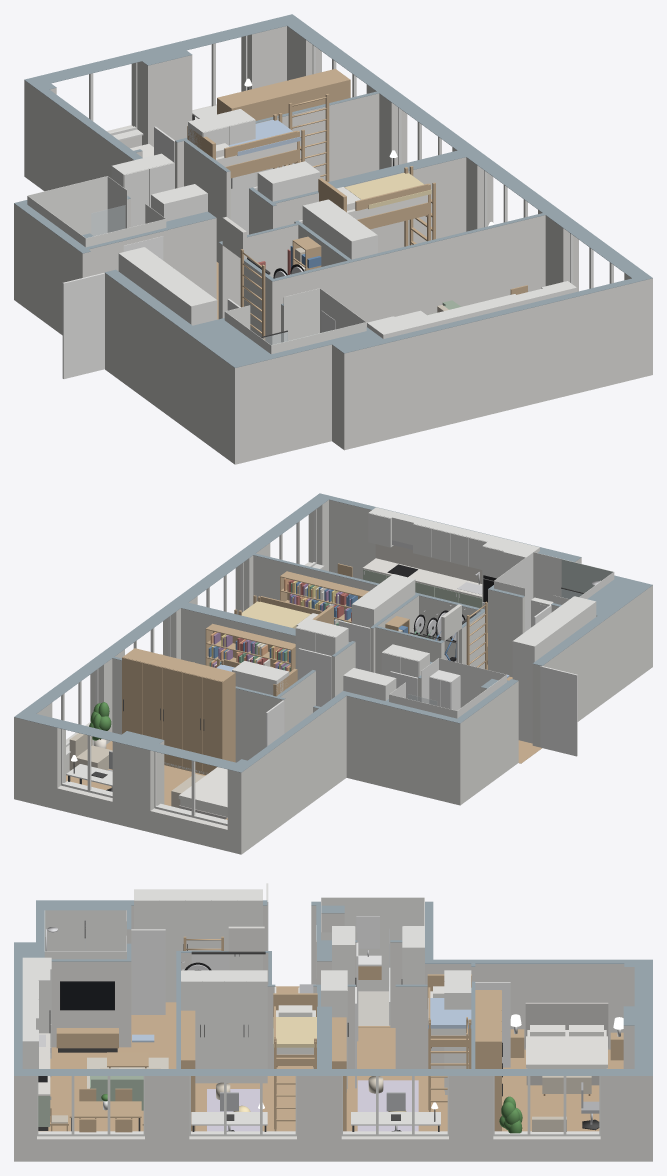
3 renders of one model, top to bottom at view 1: azimuth 30°, elevation 25°; view 2: azimuth 150°, elevation 25°; view 3: azimuth 270°, elevation 25°, orthographic. The views are drawn at different scales.
Parts seen in each view (by area): view 1: wall, white, wallcap, oak, tile_wall, white_gloss, linen, bed_yellow, glass, bed_blue, mirror; view 2: wall, white, oak, wallcap, white_gloss, tile_wall, backsplash, linen, fabric_sand, oak_floor, worktop, tile_accent (+9 smaller); view 3: wall, white, wallcap, oak_floor, oak, tile_wall, white_gloss, linen, rug_lilac, upholstery, fabric_sand, screen (+11 smaller).
Part boxes in pixels (box(x1,y1,x2,y2)): wall: box(14, 26, 652, 464); white: box(89, 35, 613, 338); wallcap: box(14, 14, 652, 367); oak: box(187, 69, 527, 339); tile_wall: box(27, 176, 366, 354); white_gloss: box(62, 126, 302, 378); linen: box(130, 142, 427, 219); bed_yellow: box(344, 173, 431, 208); glass: box(91, 205, 287, 344); bed_blue: box(229, 120, 300, 155); mirror: box(123, 236, 335, 332); wall: box(14, 500, 652, 854); white: box(61, 507, 596, 825); oak: box(122, 563, 487, 819); wallcap: box(14, 493, 652, 772); white_gloss: box(266, 604, 577, 756); tile_wall: box(389, 552, 614, 718); backsplash: box(375, 544, 482, 583); linen: box(178, 613, 318, 816); fabric_sand: box(69, 629, 402, 807); oak_floor: box(66, 633, 541, 805); worktop: box(362, 558, 482, 598); tile_accent: box(561, 559, 613, 598); wall: box(14, 905, 652, 1161); white: box(22, 889, 600, 1136); wallcap: box(14, 900, 652, 1075); oak_floor: box(38, 986, 623, 1131); oak: box(50, 936, 623, 1132); tile_wall: box(44, 897, 424, 991); white_gloss: box(131, 883, 510, 1088); linen: box(276, 986, 607, 1068); rug_lilac: box(207, 1080, 418, 1131); upholstery: box(525, 1002, 608, 1085); fabric_sand: box(51, 1068, 591, 1131); screen: box(60, 982, 114, 1009).
Size of the model in its own units: 10.16 by 2.71 by 14.2.
